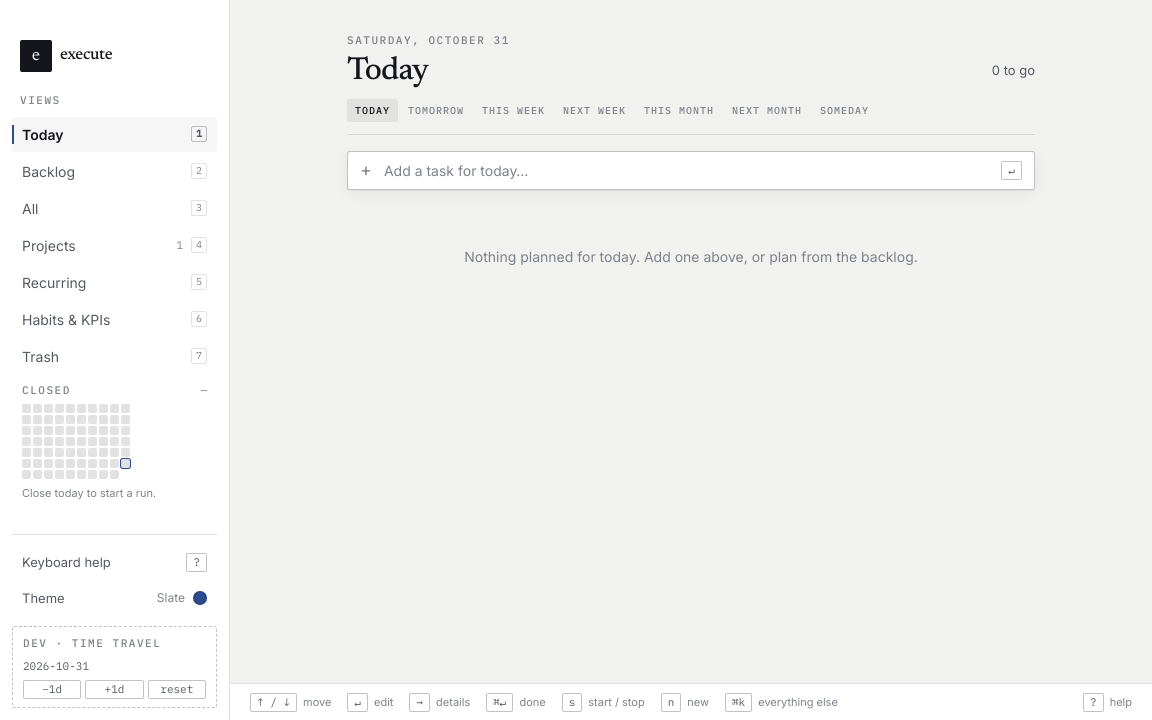
it: The weekly look-back › reads back the reasons it has been collecting all along
Type "chase the invoice" into the field with placeholder "Add a task for today…".
click(687, 170); type("chase the invoice")  # box [384,160,989,180]
Press Enter in the field with placeholder "Add a task for today…", box [384,160,989,180]
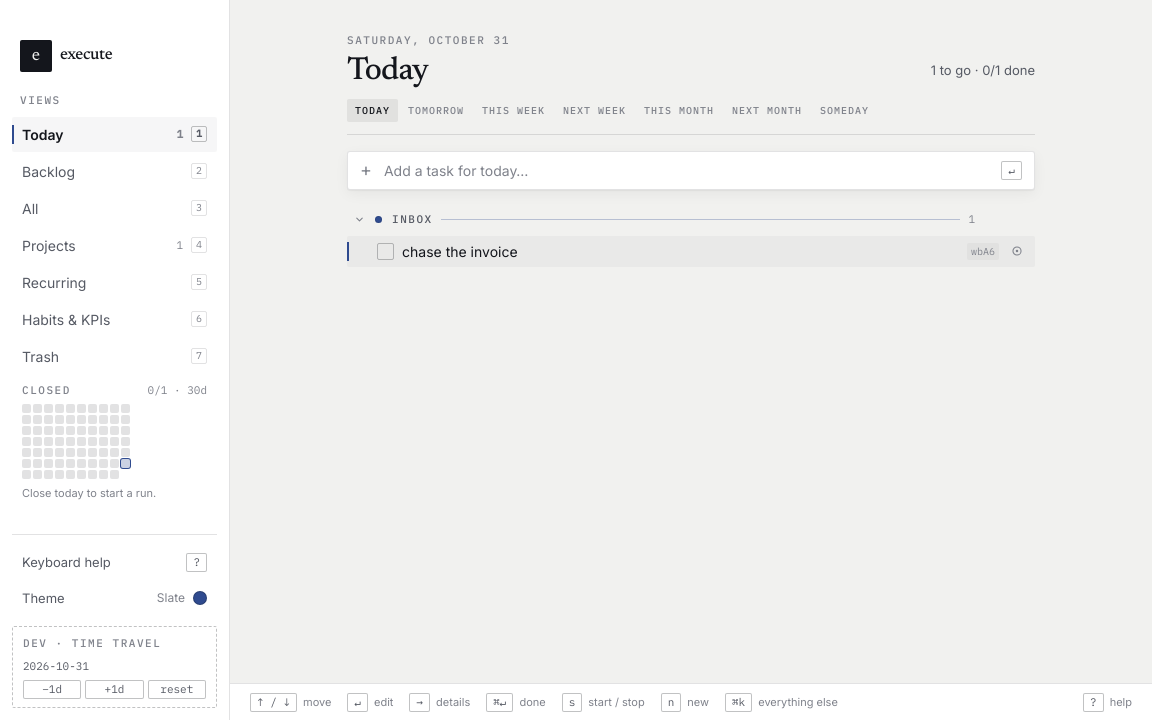
expect the text "chase the invoice" is shown: met, box [402,242,518,260]
Press k
(page scrolled)
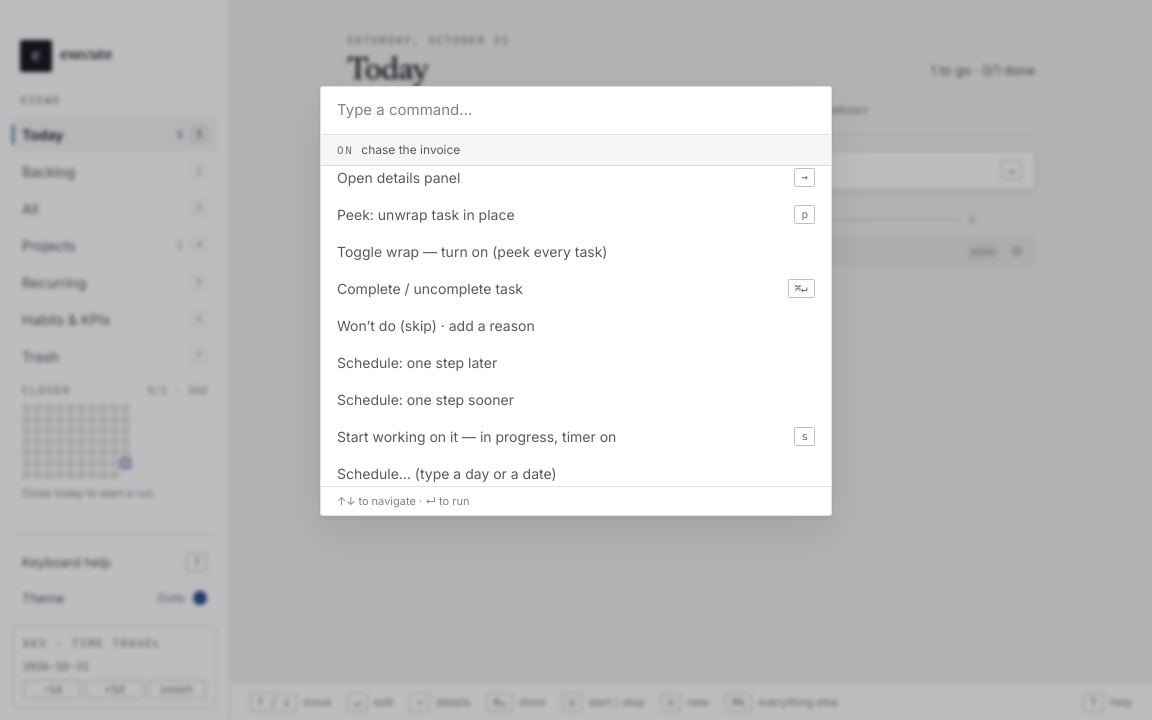
Click the option "Won’t do (skip) · add a reason".
click(436, 325)  # box [337,317,535,334]
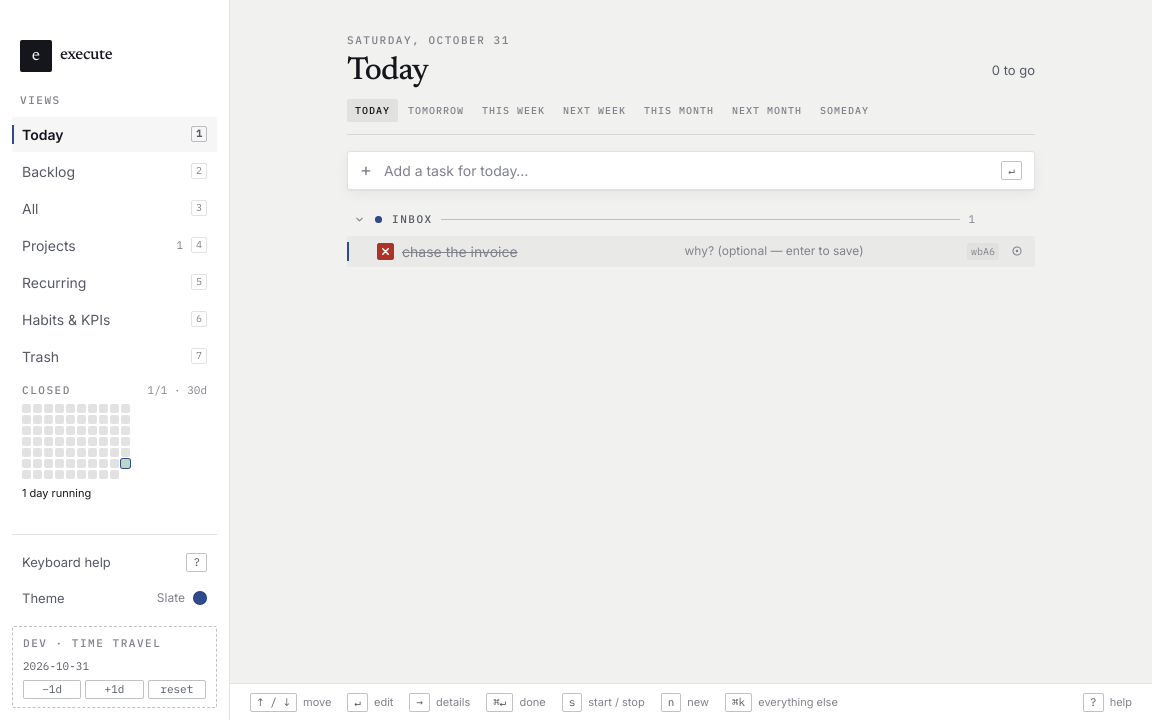
expect the field with placeholder "Type a command…" is not shown: met
Type "waiting on finance" into the field with placeholder "why? (optional — enter to save)".
click(822, 251); type("waiting on finance")  # box [684,242,959,260]
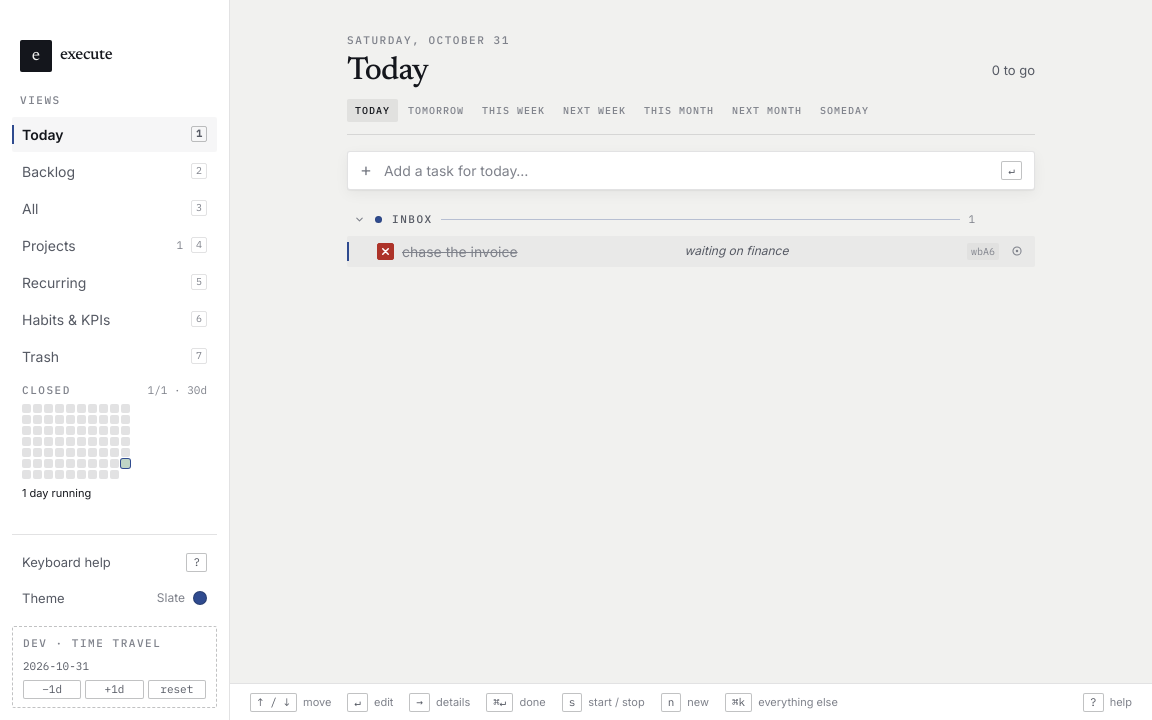
Press Enter in the field with placeholder "why? (optional — enter to save)", box [684,242,959,260]
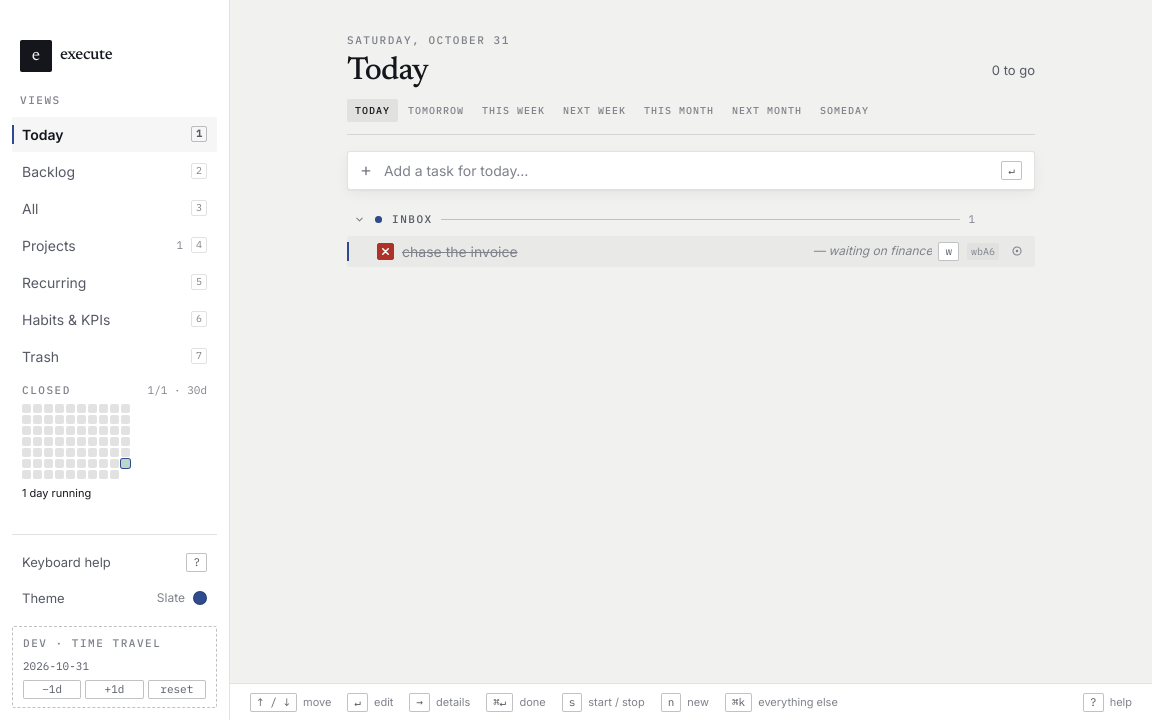
Click the button titled "Weekly look-back".
click(114, 440)  # box [12,374,217,506]
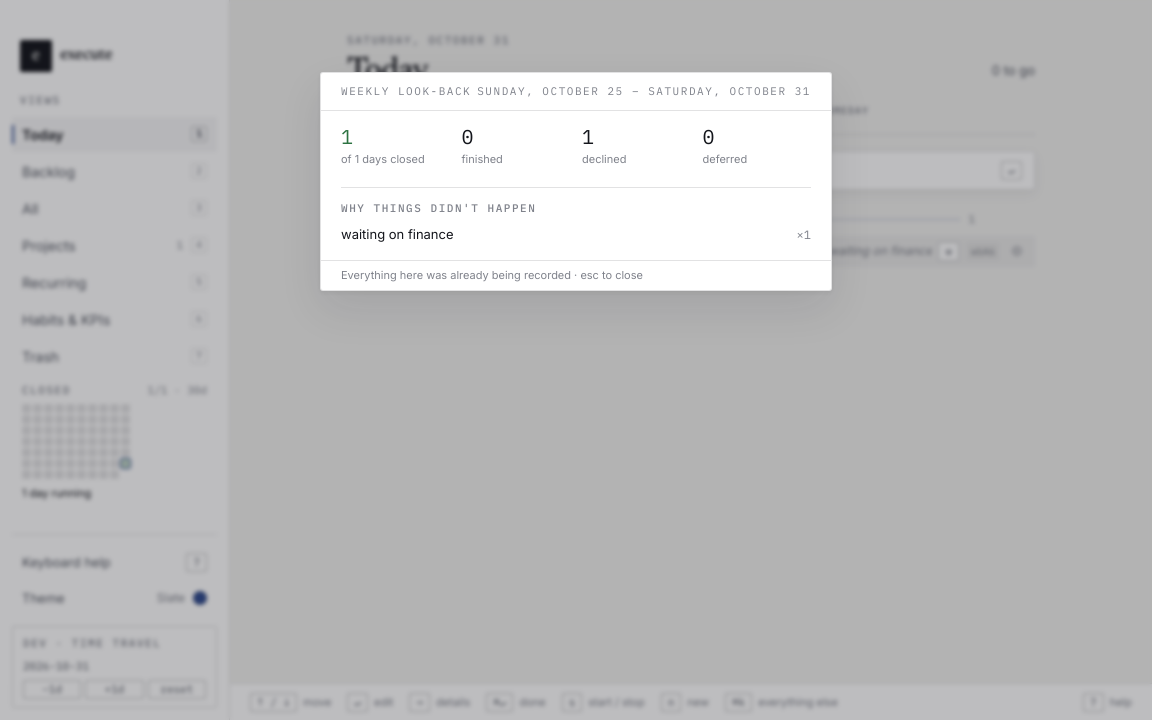
expect the text "Why things didn't happen" is shown: met, box [341,201,536,215]
expect the text "waiting on finance" is shown: met, box [341,224,454,244]
